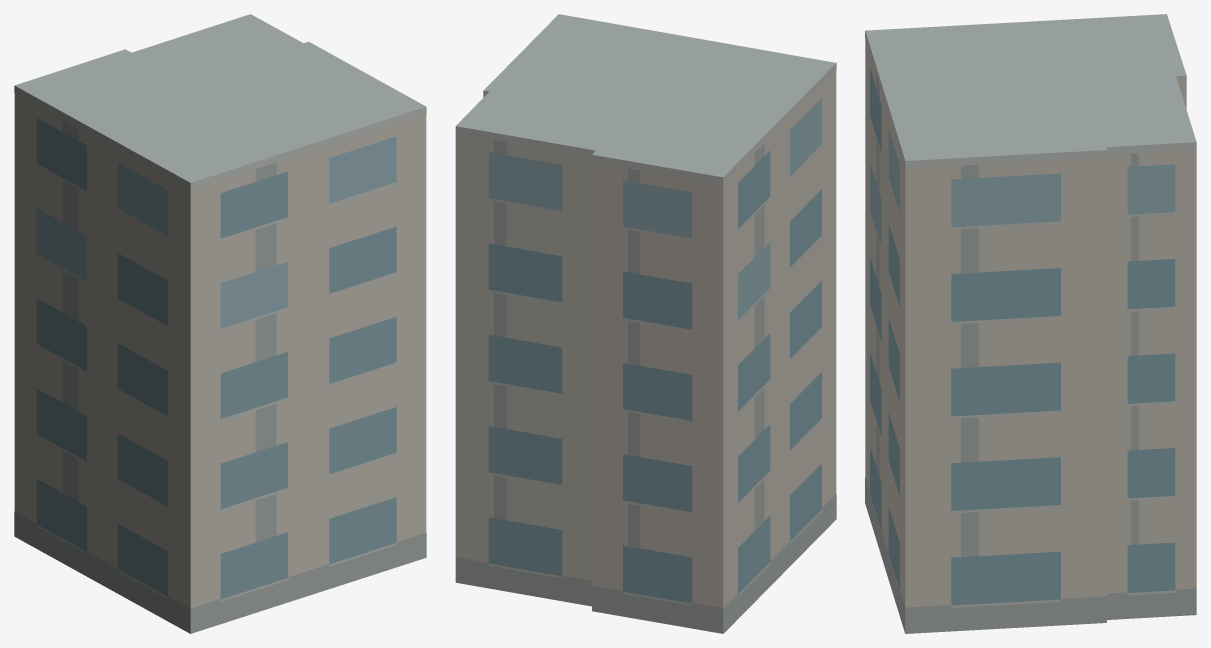
Rendered from survey-upis-32509443.glb.
The picture shows the model from 3 angles, left to right: view 1: azimuth 30°, elevation 25°; view 2: azimuth 150°, elevation 25°; view 3: azimuth 270°, elevation 25°; orthographic projection. The views are drawn at different scales.
Visible parts, largest first — view 1: survey-upis-32509443.tmp; view 2: survey-upis-32509443.tmp; view 3: survey-upis-32509443.tmp.
Part boxes in pixels (x1,y1,x2,y2): survey-upis-32509443.tmp: [14, 14, 426, 633]; survey-upis-32509443.tmp: [455, 14, 836, 633]; survey-upis-32509443.tmp: [865, 14, 1196, 633].
Bounding box in the file's own units: 9.94 × 14.9 × 9.48.
